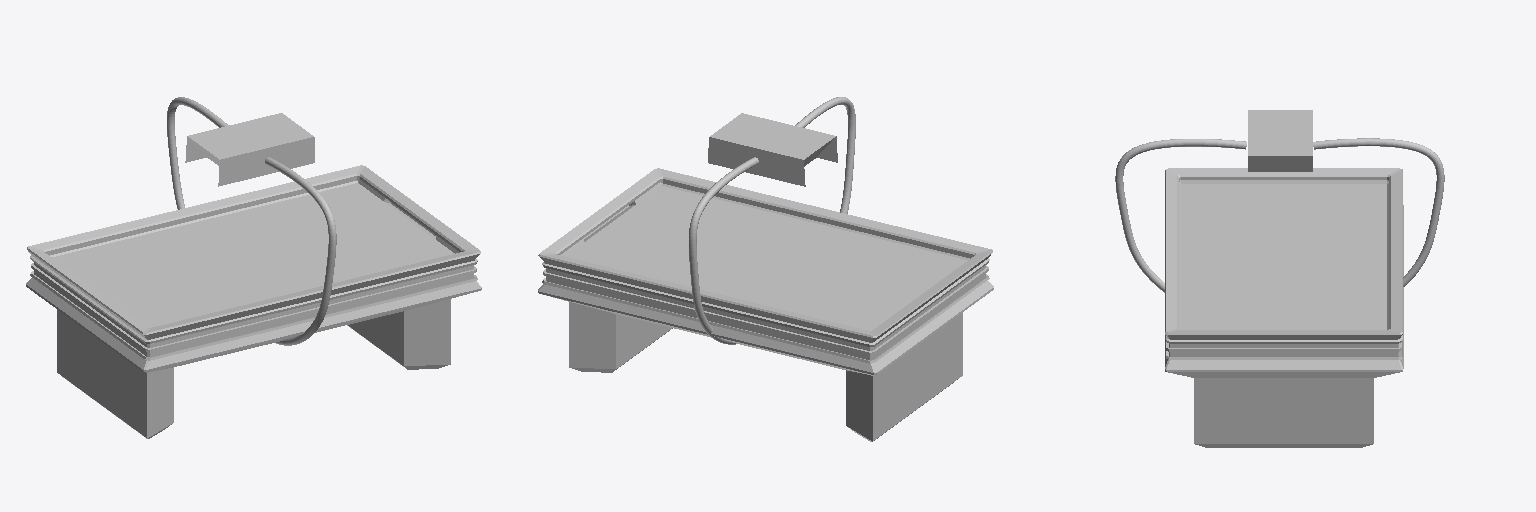
Rendered from MesaAirHockey4.obj.
3 views of the same model, side by side, from view 1: azimuth 30°, elevation 25°; view 2: azimuth 150°, elevation 25°; view 3: azimuth 270°, elevation 25° (orthographic).
Parts seen in each view (by area): view 1: mesa, Cube_Cube.002, NurbsPath_NurbsPath.001, NurbsPath.001_NurbsPath.005; view 2: mesa, Cube_Cube.002, NurbsPath.001_NurbsPath.005, NurbsPath_NurbsPath.001; view 3: mesa, Cube_Cube.002, NurbsPath_NurbsPath.001, NurbsPath.001_NurbsPath.005.
Boxes of the visible parts, x1,y1,x2,y2 form: mesa: [26, 165, 481, 438]; Cube_Cube.002: [185, 113, 314, 186]; NurbsPath_NurbsPath.001: [265, 157, 336, 345]; NurbsPath.001_NurbsPath.005: [167, 97, 228, 209]; mesa: [538, 168, 993, 441]; Cube_Cube.002: [708, 113, 837, 186]; NurbsPath.001_NurbsPath.005: [689, 157, 758, 344]; NurbsPath_NurbsPath.001: [795, 97, 855, 213]; mesa: [1165, 168, 1403, 447]; Cube_Cube.002: [1248, 110, 1312, 171]; NurbsPath_NurbsPath.001: [1115, 139, 1246, 292]; NurbsPath.001_NurbsPath.005: [1313, 138, 1444, 286].
Size of the model in its own units: 2.56 by 1.75 by 2.16.